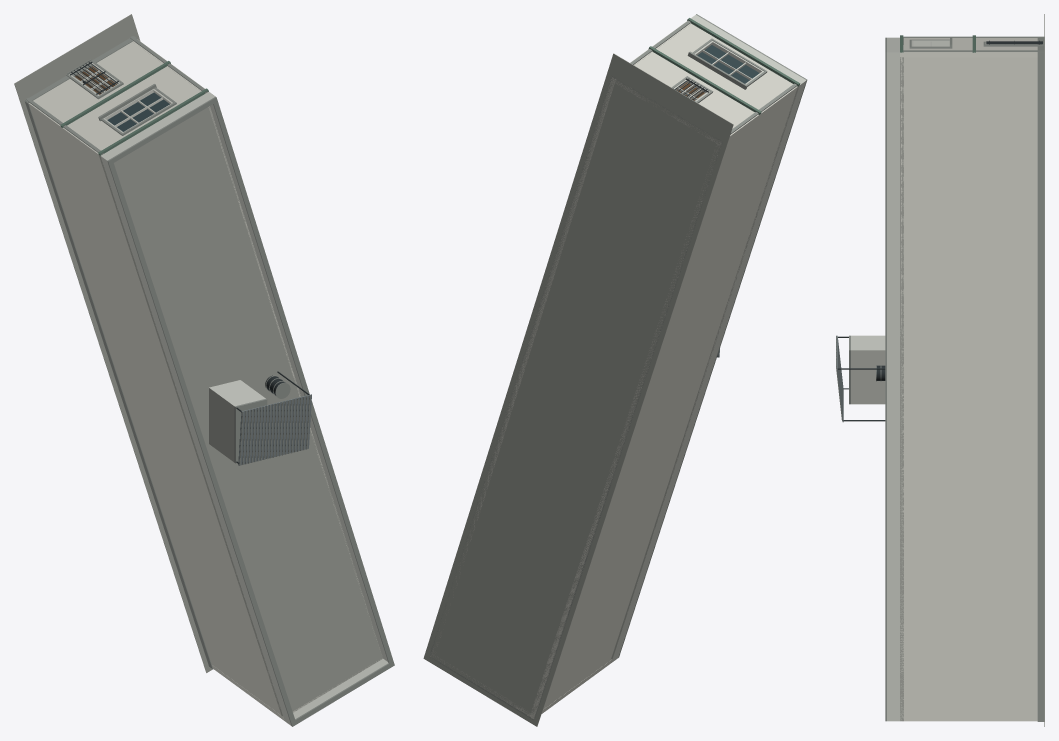
The model's file is lot_1134712.obj.
3 renders of one model, left to right at view 1: azimuth 30°, elevation 25°; view 2: azimuth 150°, elevation 25°; view 3: azimuth 270°, elevation 25°, orthographic. The views are drawn at different scales.
Parts seen in each view (by area): view 1: roof_slab_900, wall_12, parapet_cap_944, parapet_912, lot_paving_0, canopy_sheet_1032, rooftop_room_976, plinth_24, wall_288, wall_60, wall_96, window_panel_780 (+2 smaller); view 2: lot_paving_0, wall_12, parapet_912, wall_60, roof_slab_900, parapet_cap_944, plinth_24, window_panel_780, wall_312, wall_120; view 3: wall_60, parapet_912, plinth_72, roof_slab_900, rooftop_room_976, parapet_cap_944, lot_paving_0, wall_96, wall_120.
Part boxes in pixels (box(x1,y1,x2,y2)): roof_slab_900: box(99, 106, 382, 716); wall_12: box(29, 104, 281, 715); parapet_cap_944: box(107, 96, 394, 726); parapet_912: box(100, 92, 388, 725); lot_paving_0: box(14, 14, 212, 672); canopy_sheet_1032: box(238, 394, 311, 465); rooftop_room_976: box(209, 380, 265, 462); plinth_24: box(24, 101, 212, 668); wall_288: box(29, 86, 83, 122); wall_60: box(133, 39, 379, 647); wall_96: box(109, 41, 159, 75); window_panel_780: box(107, 92, 169, 131); lot_paving_0: box(423, 53, 733, 726); wall_12: box(530, 87, 798, 718); parapet_912: box(611, 15, 806, 662); wall_60: box(433, 21, 691, 651); roof_slab_900: box(611, 24, 799, 659); parapet_cap_944: box(618, 14, 807, 657); plinth_24: box(533, 142, 722, 719); window_panel_780: box(697, 45, 759, 83); wall_312: box(746, 73, 792, 104); wall_120: box(667, 27, 708, 54); wall_60: box(900, 52, 1037, 721); parapet_912: box(887, 37, 899, 721); plinth_72: box(1037, 52, 1044, 721); roof_slab_900: box(900, 38, 903, 721); rooftop_room_976: box(851, 335, 885, 404); parapet_cap_944: box(885, 37, 886, 721); lot_paving_0: box(1044, 14, 1044, 726); wall_96: box(985, 48, 1037, 57); wall_120: box(911, 48, 950, 57).
Bounding box in the file's own units: 12.96 × 27.66 × 8.07.
